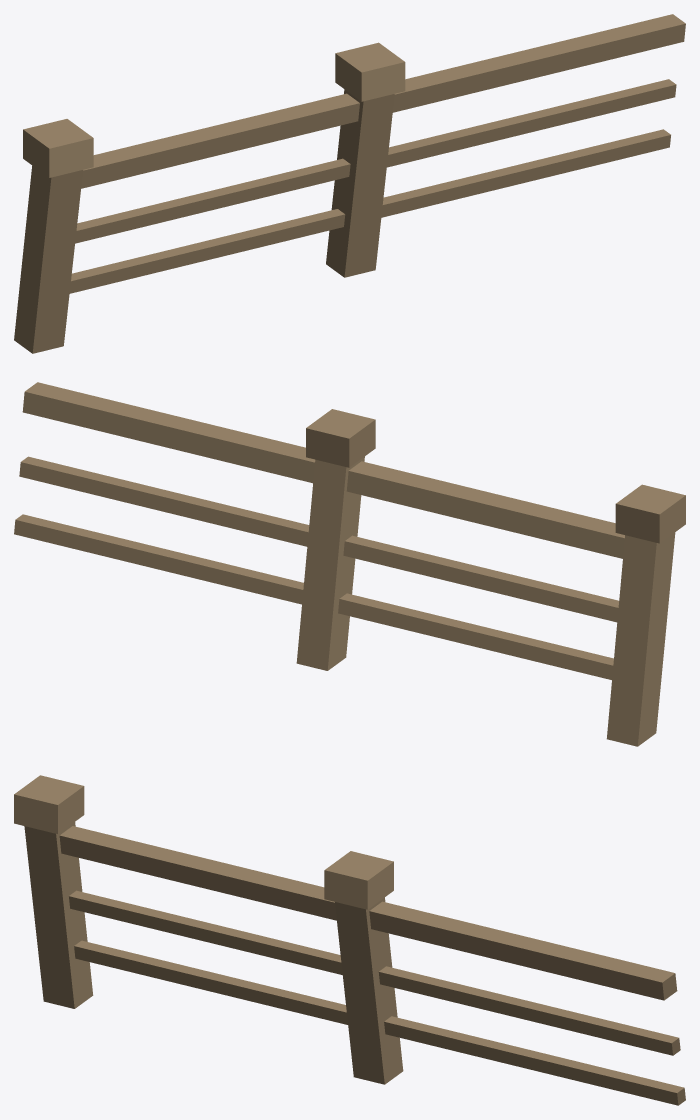
File: LightWoodWallMediumGuardRail1.fbx
3 renders of one model, top to bottom at view 1: azimuth 30°, elevation 25°; view 2: azimuth 150°, elevation 25°; view 3: azimuth 330°, elevation 25°, orthographic.
Parts seen in each view (by area): view 1: LightWoodWallMediumGuardRail1; view 2: LightWoodWallMediumGuardRail1; view 3: LightWoodWallMediumGuardRail1.
Boxes of the visible parts, x1=… form: LightWoodWallMediumGuardRail1: x1=14, y1=14, x2=685, y2=353; LightWoodWallMediumGuardRail1: x1=14, y1=382, x2=685, y2=746; LightWoodWallMediumGuardRail1: x1=14, y1=775, x2=685, y2=1105.
Size of the model in its own units: 402 by 133 by 45.32.
